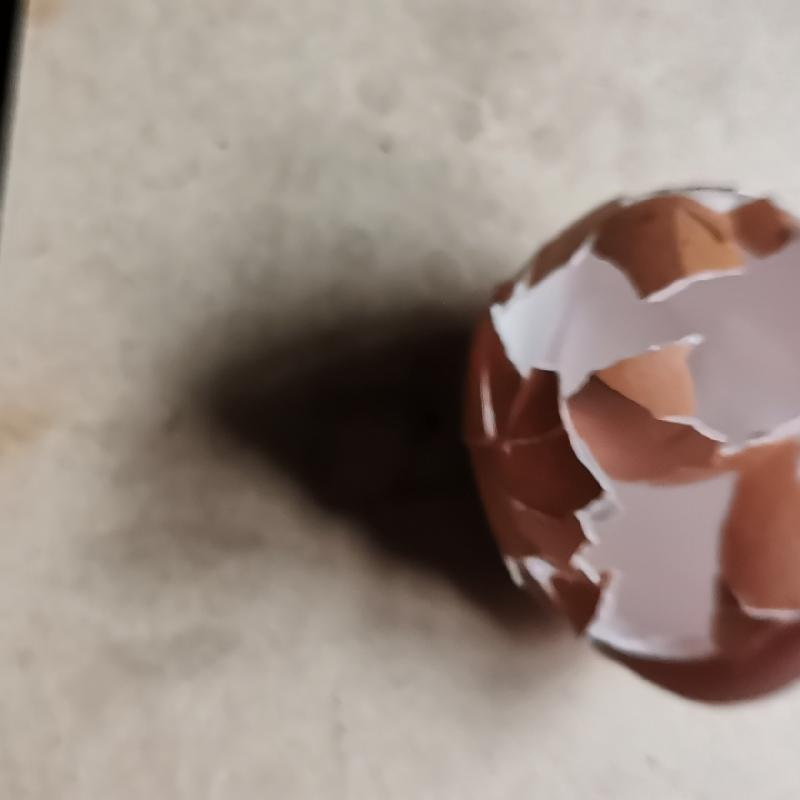eggshell: (462, 185, 800, 704)
